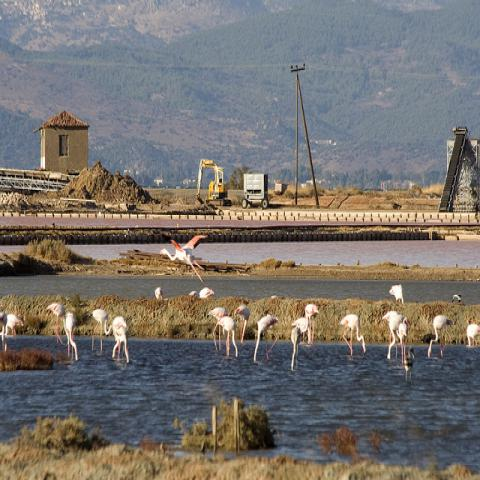truck: (240, 172, 270, 209)
